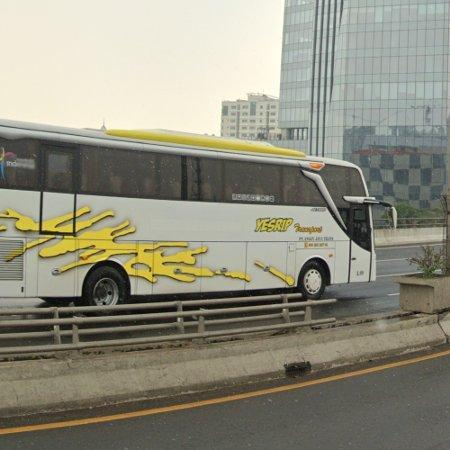buses: (0, 120, 380, 306)
